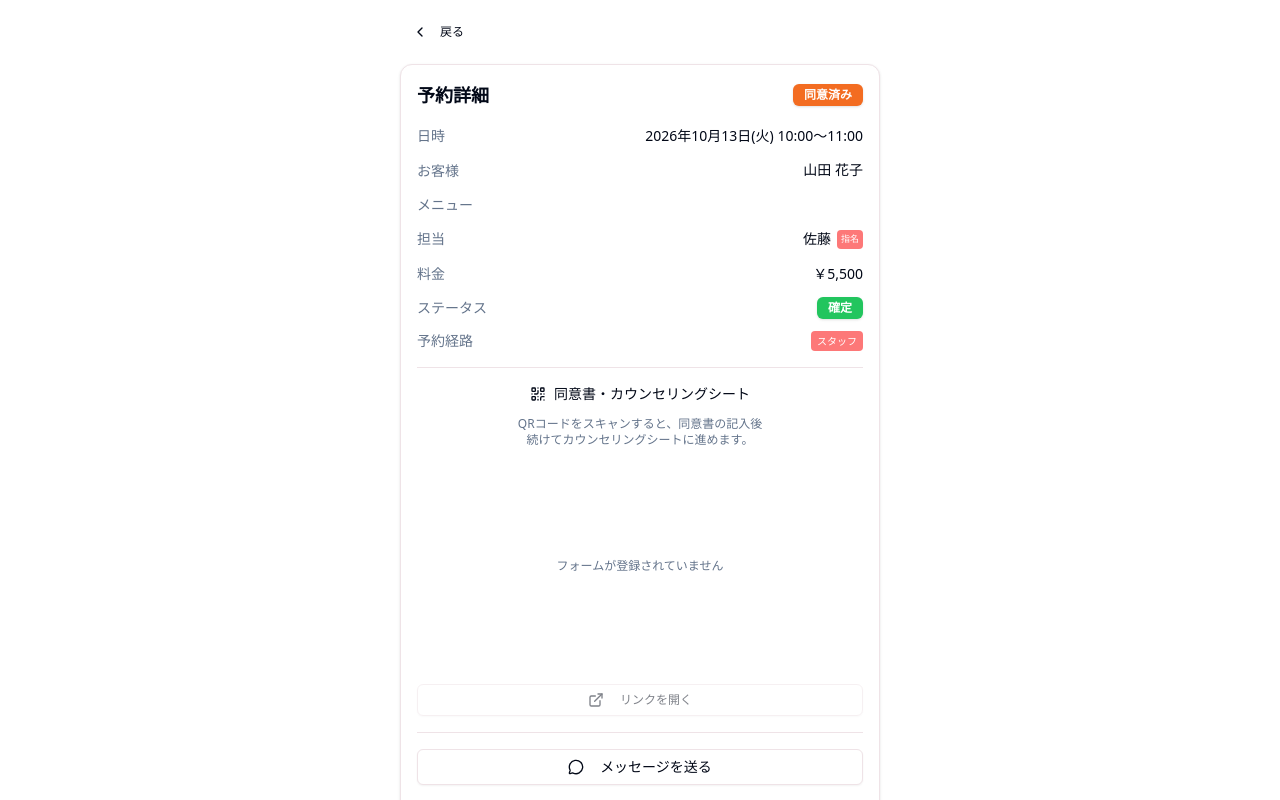
Test: 予約詳細 › opens the signed consent with the customer details, the consent text and when it was agreed
The width and height of the screenshot is (1280, 800).
Step 1. Click the text "同意済み" → (828, 95), box x1=793 y1=84 x2=863 y2=106
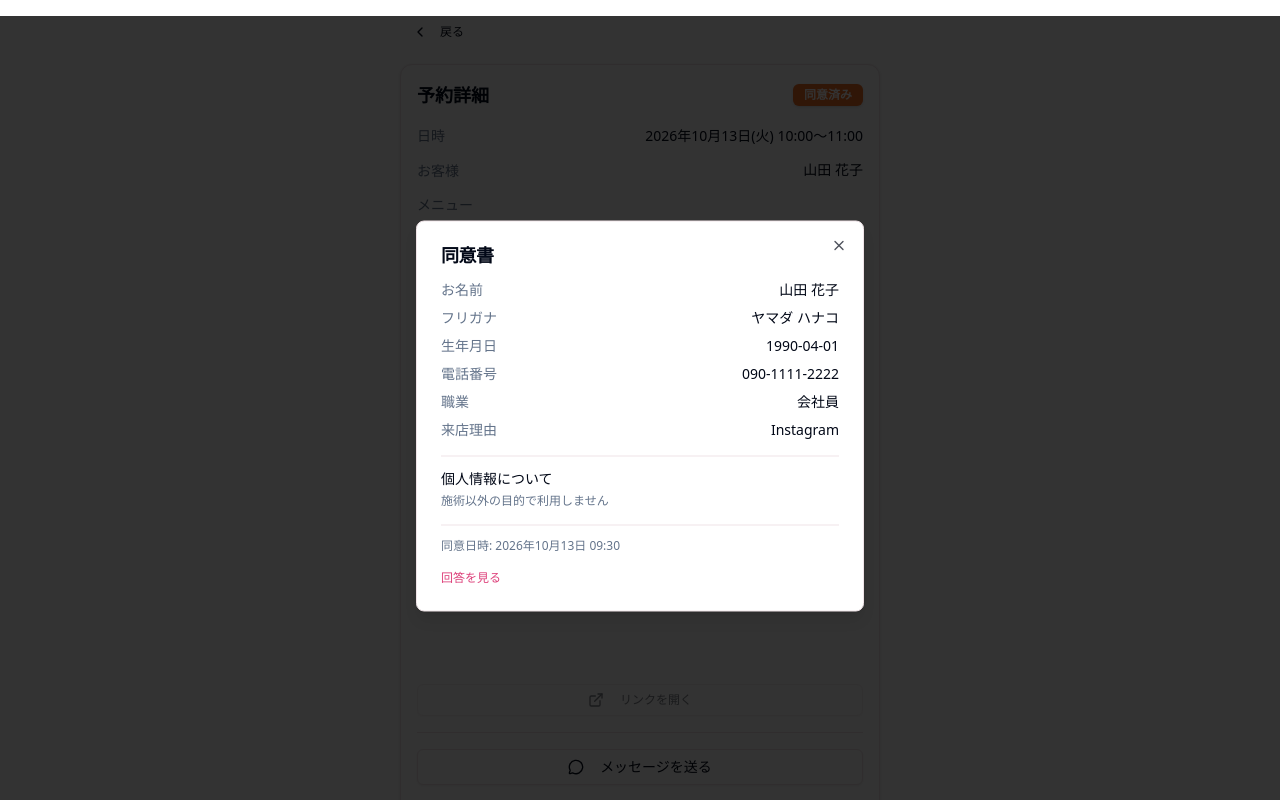
Now the heading "個人情報について" is shown, box x1=441 y1=468 x2=553 y2=488
Now the text "施術以外の目的で利用しません" is shown, box x1=441 y1=492 x2=609 y2=508
Now the text "山田 花子" is shown, box x1=779 y1=280 x2=839 y2=300
